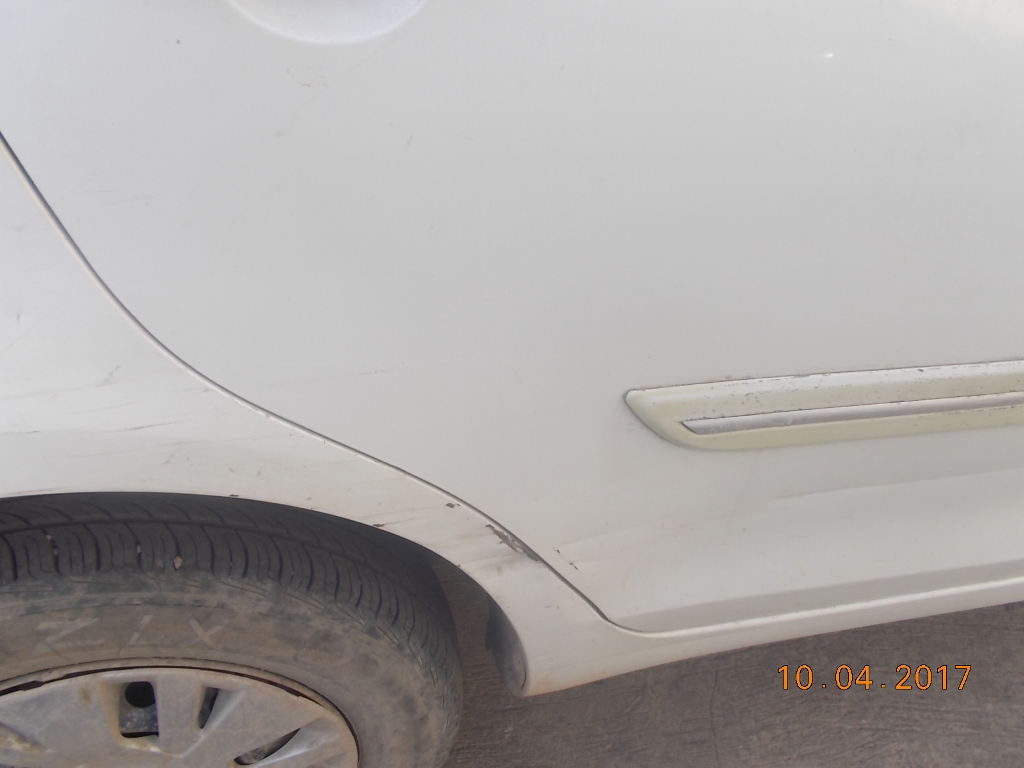Scratch_or_spot: (492, 518, 506, 542), (510, 554, 533, 567)
